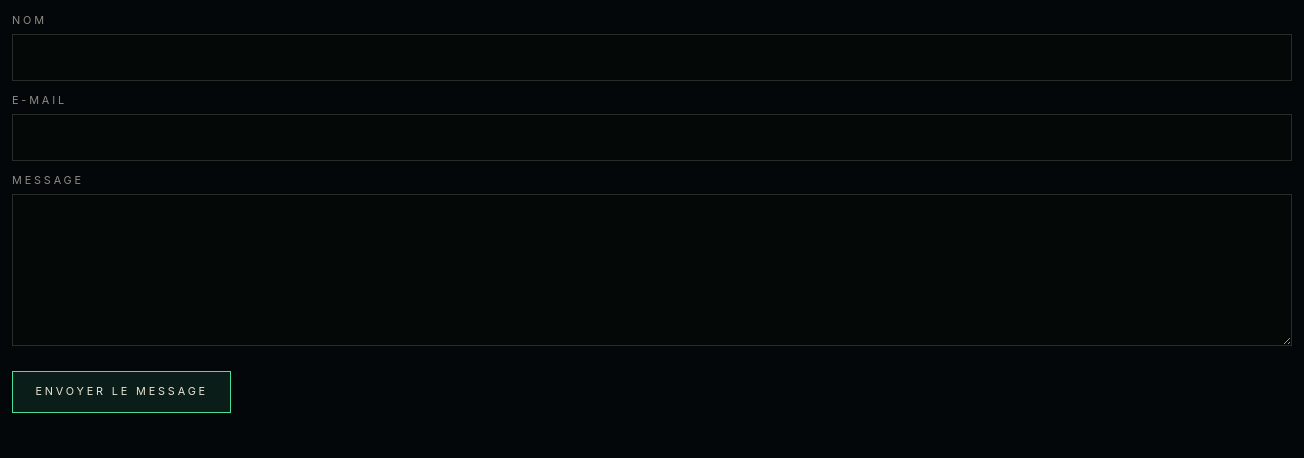
Test: ContactForm › gère une panne réseau sans casser la page
This screenshot has width=1304, height=458.
Type "Camille Bertin" into the field labelled "Nom" at (652, 58), box [12,34,1292,82]
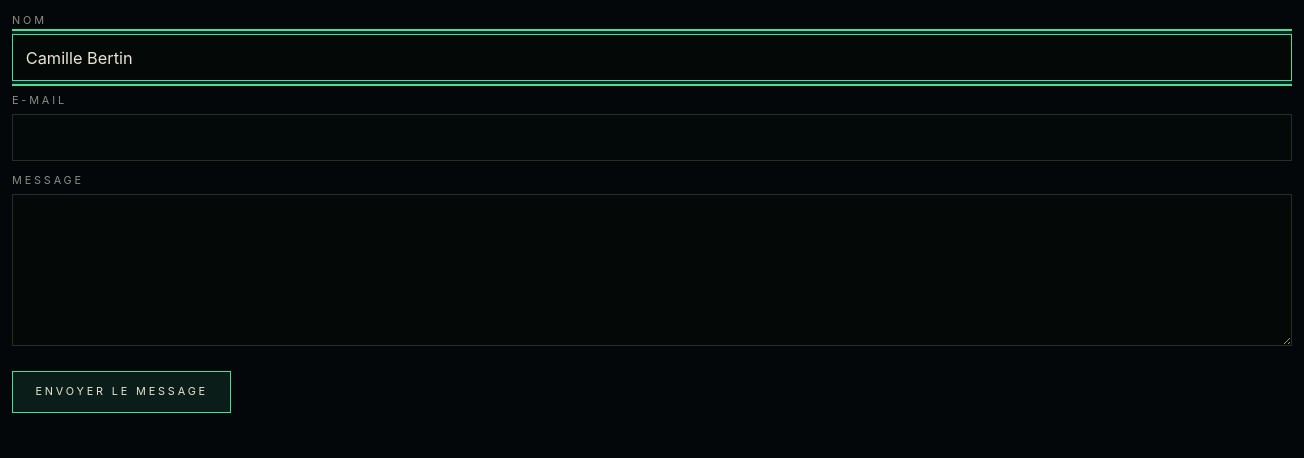
Type "camille@example.com" into the field labelled "E-mail" at (652, 138), box [12,114,1292,161]
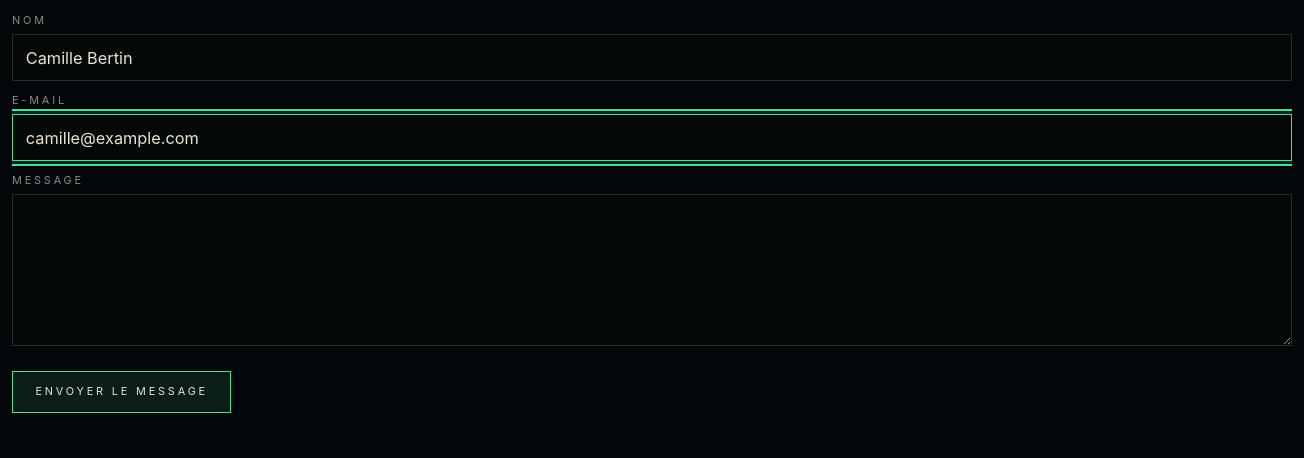
Type "Bonjour, je cherche un développeur pour un projet Next.js." into the text box labelled "Message" at (652, 270), box [12,194,1292,346]
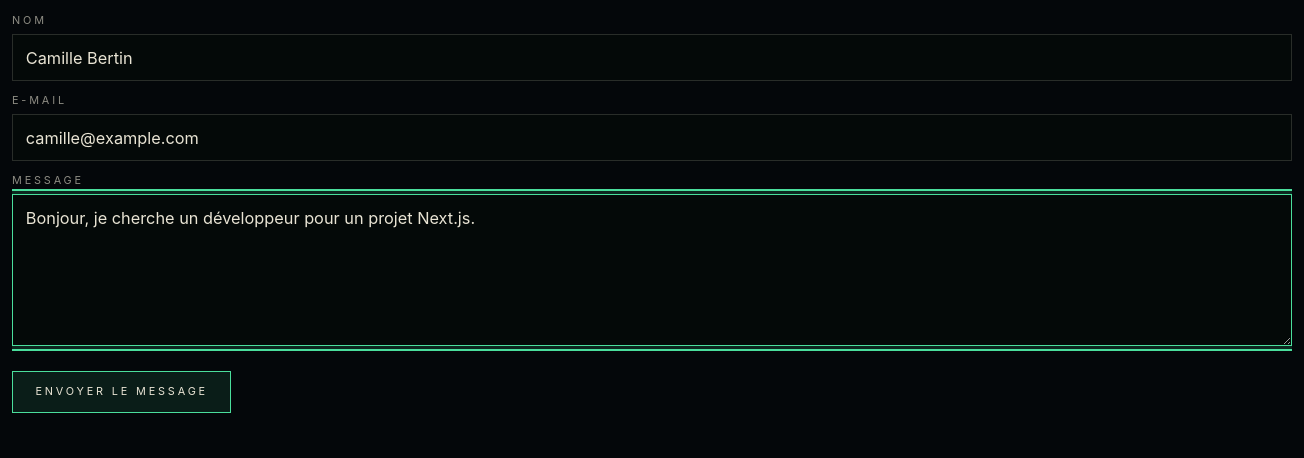
Click the button "Envoyer le message" at (122, 392), box [12,371,231,413]
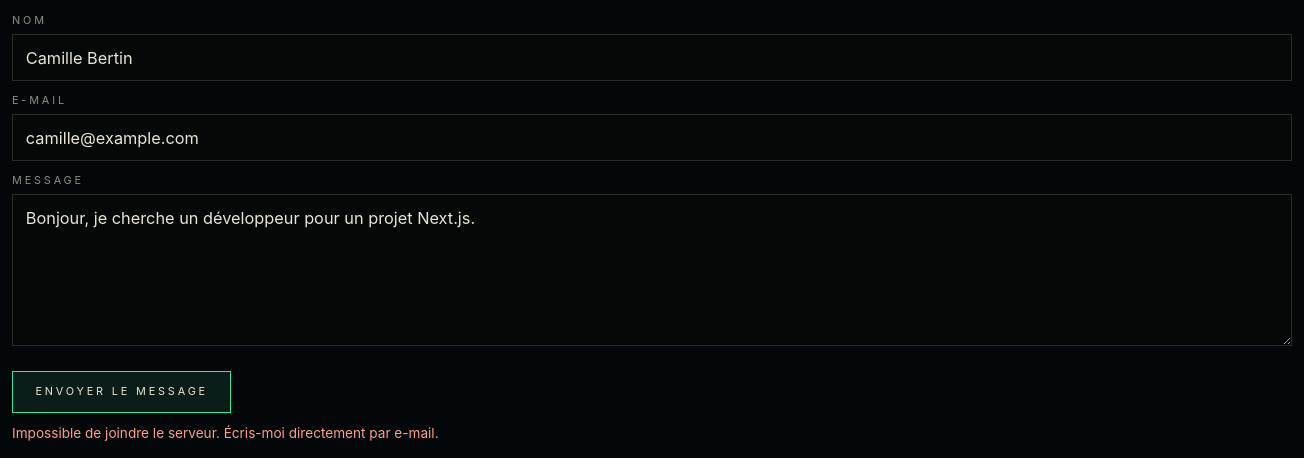
Expected: the message shows "Impossible de joindre le serveur", [12,425,439,441]
